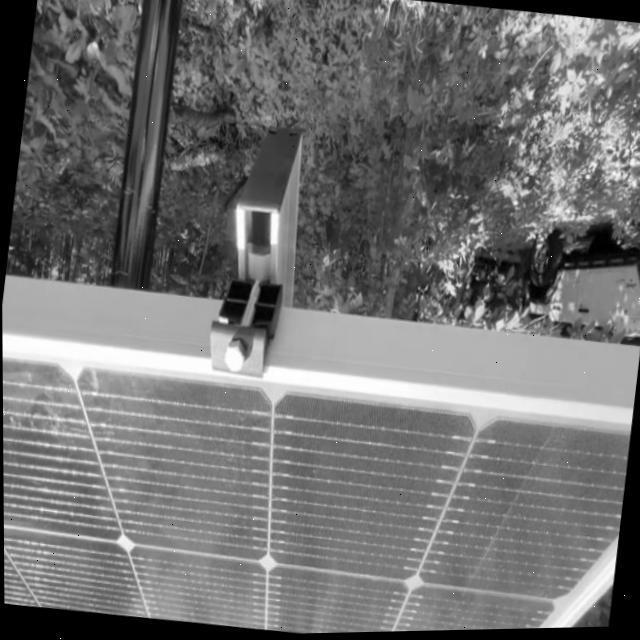Normal Solar Panel: (2, 347, 632, 640)
